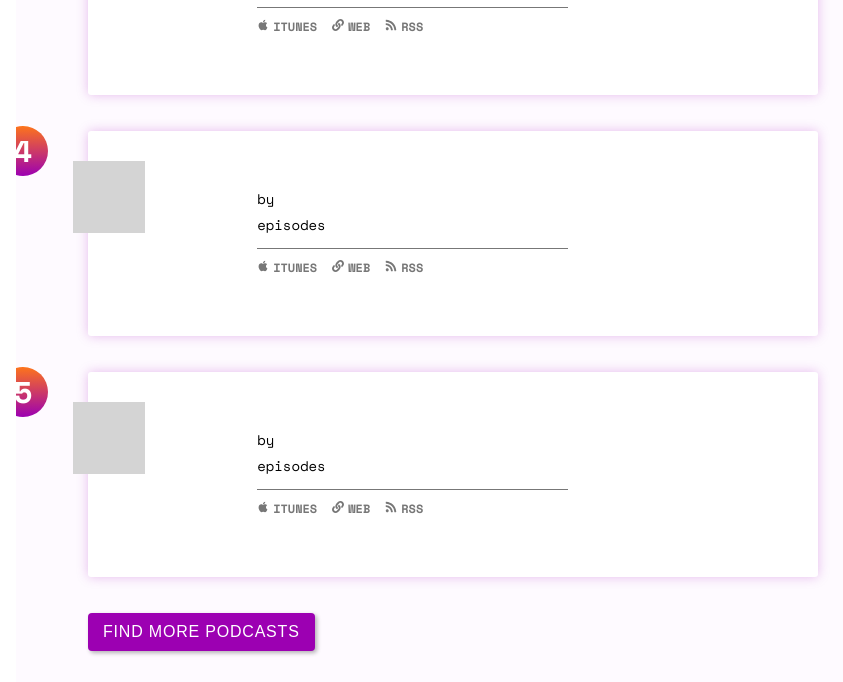
Scenario: App.tsx › events › Clicking the Find More Button shows more podcasts
(page scrolled)
Click the button with test id "findMoreButton" at (201, 632), box [88,613,315,651]
(page scrolled)
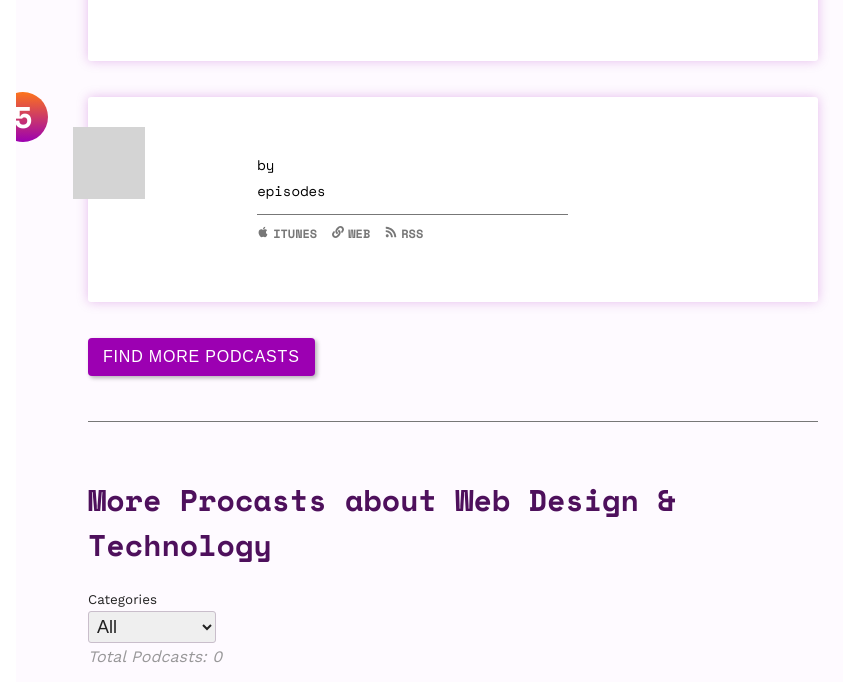
expect the element with test id "morePodcasts" is shown: met, box [88,421,818,666]
